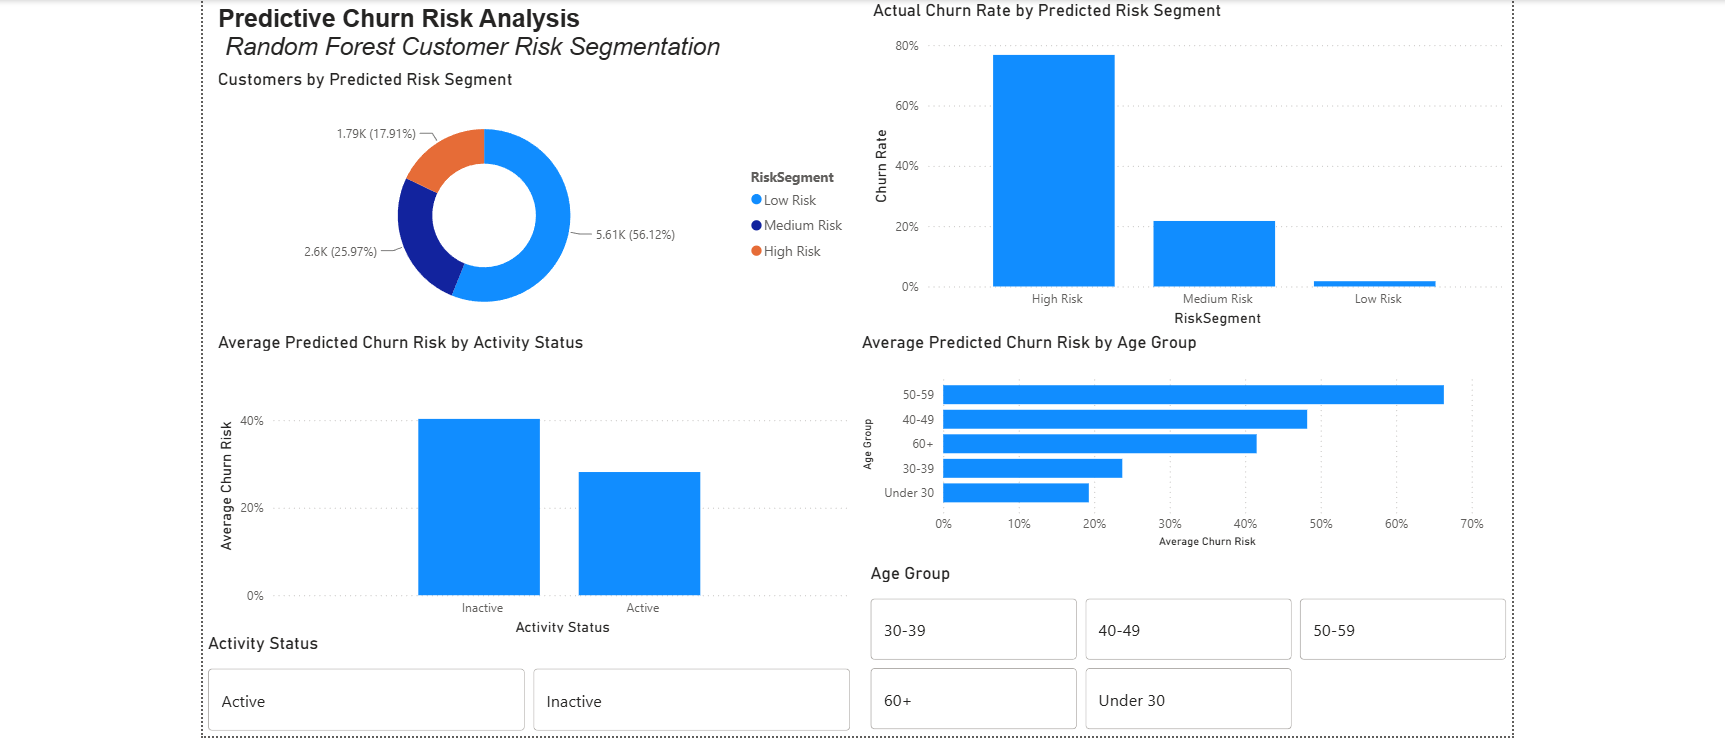

This screenshot's page, from the dashboard's own definition file:
{"tool":"powerbi","page":{"name":"Predictive Risk & Customer Segmentation","canvas":[1280,720],"ordinal":1},"visuals":[{"type":"textbox","box":[9.8,0,629.8,67.3],"z":0},{"type":"donutChart","title":"Customers by Predicted Risk Segment","fields":{"Category":["bank_churn_powerbi.RiskSegment"],"Y":["CountNonNull(bank_churn_powerbi.CustomerId)"]},"box":[9.8,67.3,629.8,256.8],"z":1000},{"type":"clusteredColumnChart","title":"Actual Churn Rate by Predicted Risk Segment","fields":{"Category":["bank_churn_powerbi.RiskSegment"],"Y":["bank_churn_powerbi.Churn Rate"]},"box":[650.5,0,629.8,324.1],"z":2000},{"type":"clusteredColumnChart","title":"Average Predicted Churn Risk by Activity Status","fields":{"Category":["bank_churn_powerbi.Activity Status"],"Y":["bank_churn_powerbi.Average Churn Risk"]},"box":[9.8,324.1,629.8,302],"z":3000},{"type":"clusteredBarChart","title":"Average Predicted Churn Risk by Age Group","fields":{"Category":["bank_churn_powerbi.Age Group"],"Y":["bank_churn_powerbi.Average Churn Risk"]},"box":[639.5,324.1,618.8,216.4],"z":4000},{"type":"advancedSlicerVisual","fields":{"Values":["bank_churn_powerbi.Age Group"]},"box":[648.1,550.3,632.2,170],"z":5000},{"type":"advancedSlicerVisual","fields":{"Values":["bank_churn_powerbi.Activity Status"]},"box":[0,618.8,639.5,101.5],"z":6000}]}

Visuals, with their boxes on the page's 1280x720 design canvas (x1, y1, x2, y2). These are canvas units, not pixel positions in the 1725x742 screenshot, which may show the page scaled, cropped or inside an application window:
textbox: l=10, t=0, r=640, b=67
"Customers by Predicted Risk Segment" donutChart: l=10, t=67, r=640, b=324
"Actual Churn Rate by Predicted Risk Segment" clusteredColumnChart: l=650, t=0, r=1280, b=324
"Average Predicted Churn Risk by Activity Status" clusteredColumnChart: l=10, t=324, r=640, b=626
"Average Predicted Churn Risk by Age Group" clusteredBarChart: l=640, t=324, r=1258, b=540
advancedSlicerVisual - bank_churn_powerbi.Age Group: l=648, t=550, r=1280, b=720
advancedSlicerVisual - bank_churn_powerbi.Activity Status: l=0, t=619, r=640, b=720
